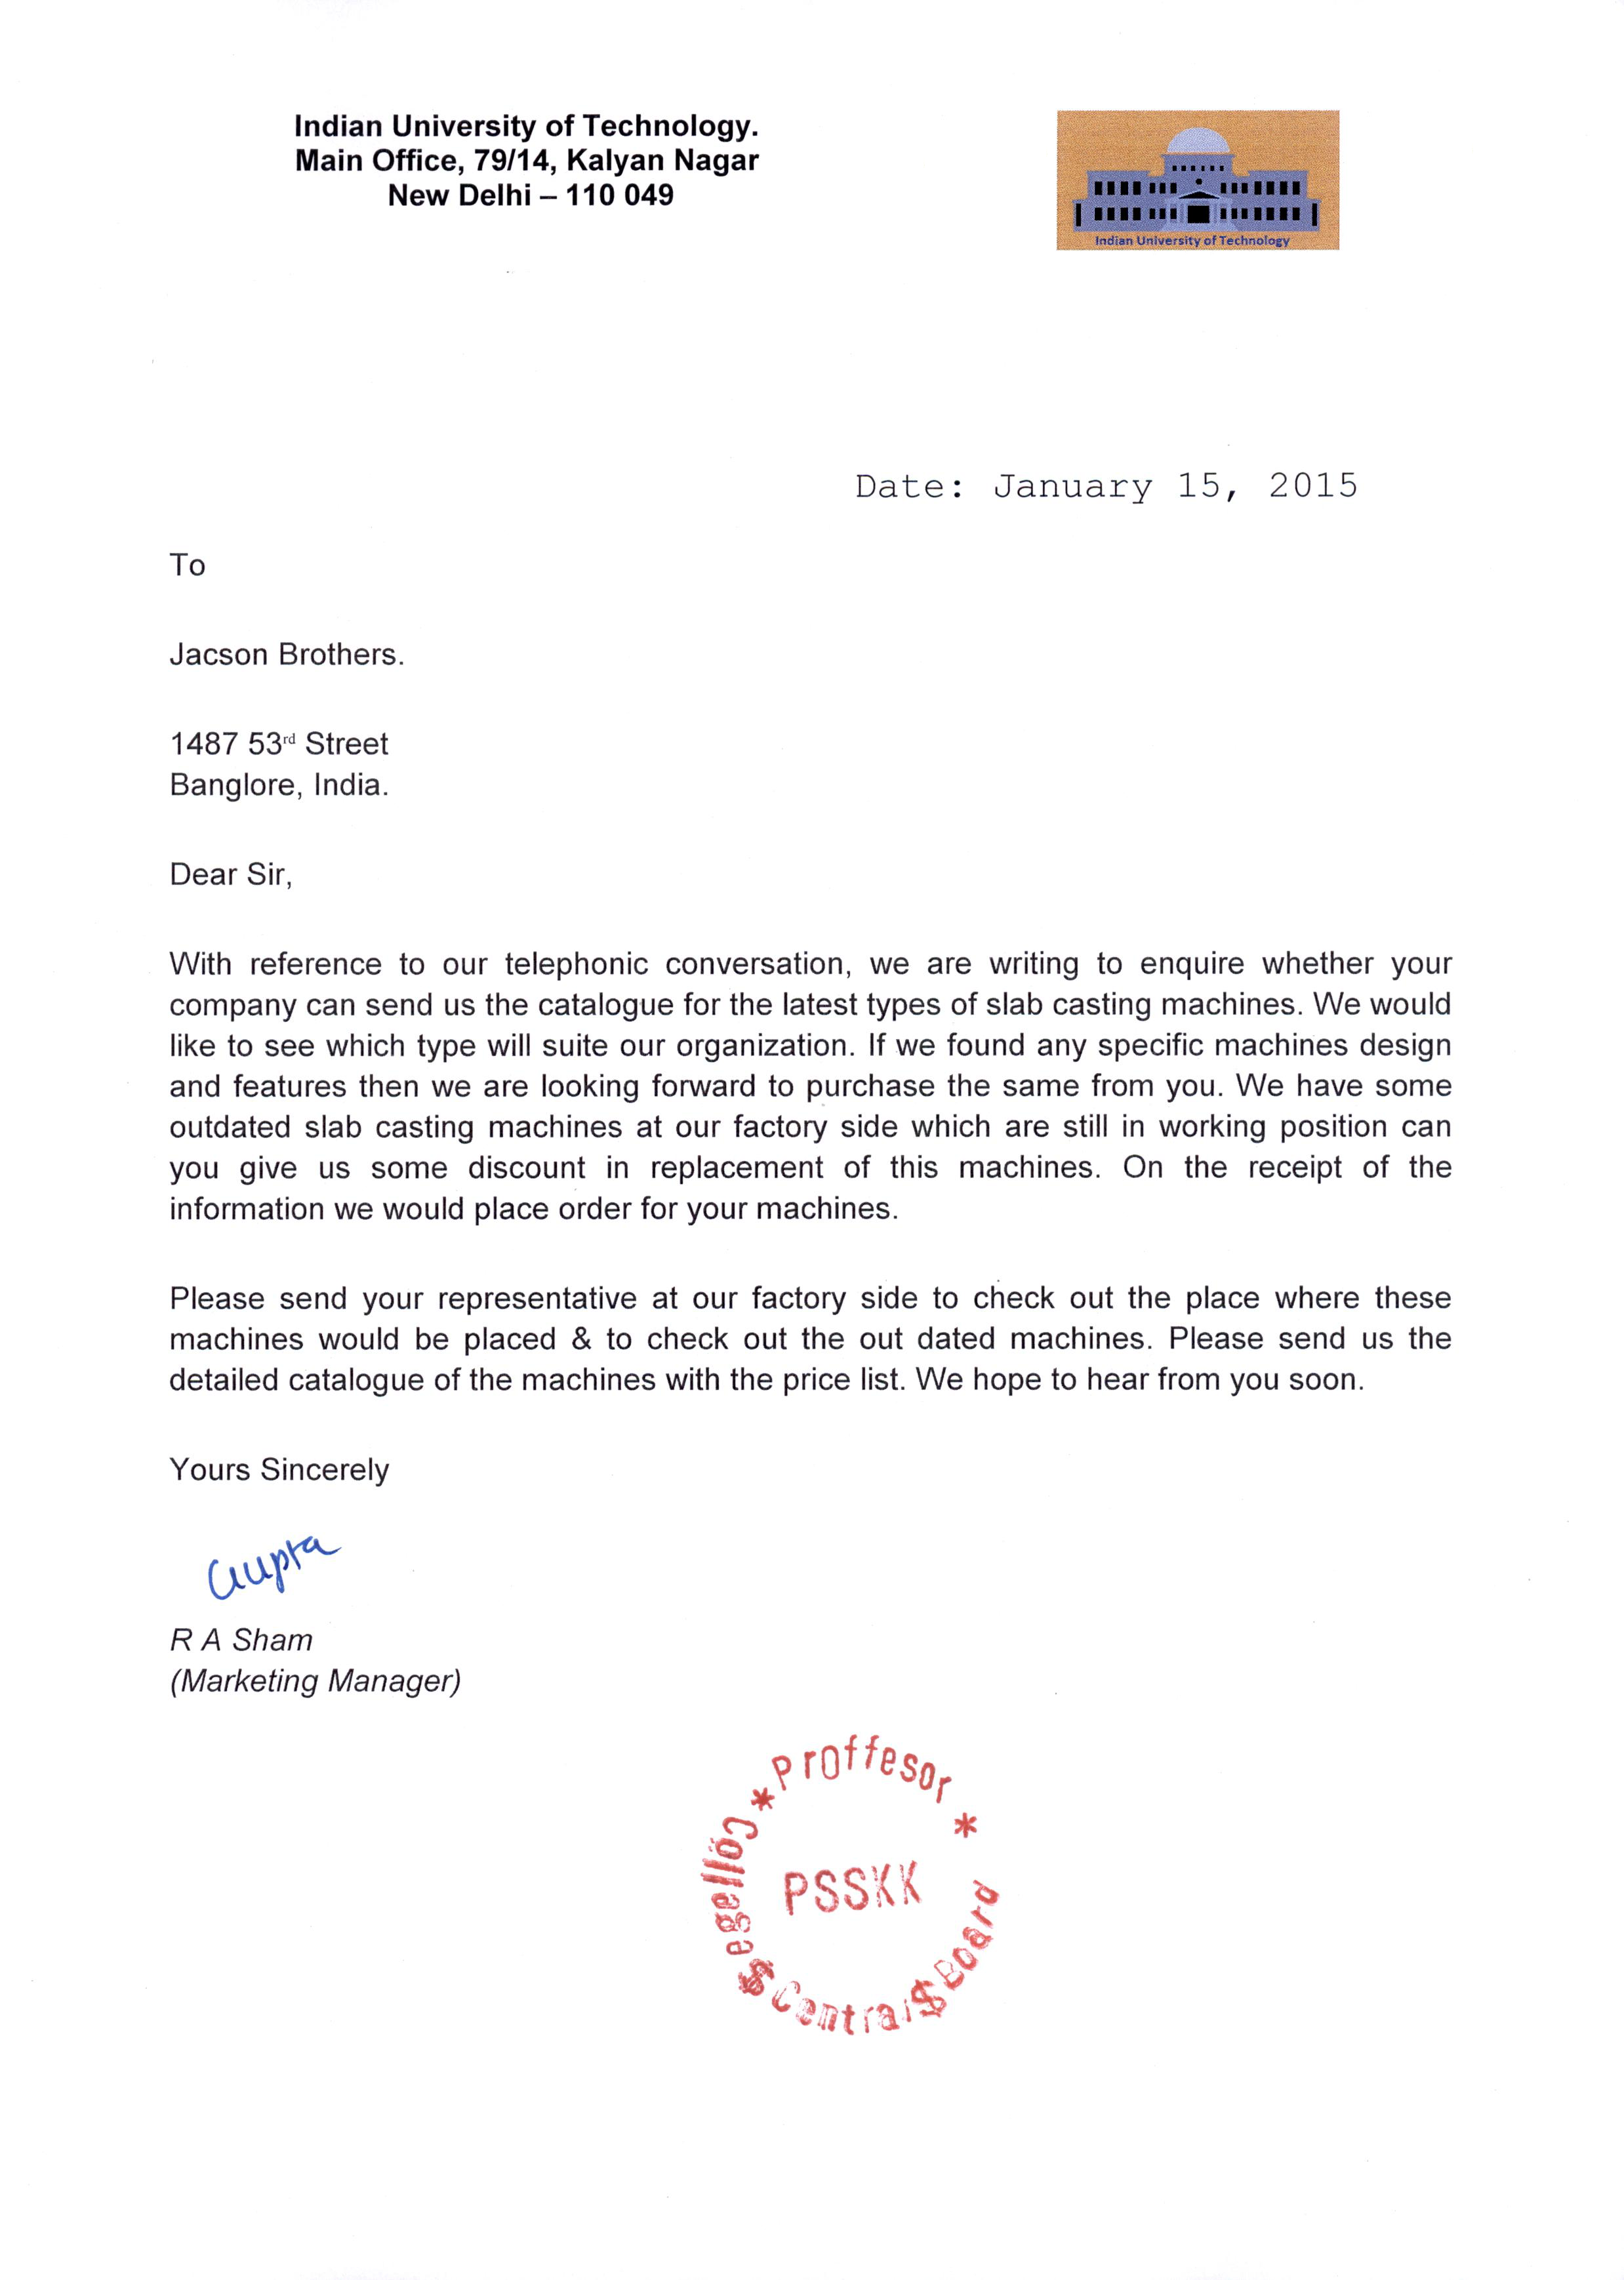Signature: (202, 1524, 348, 1616)
